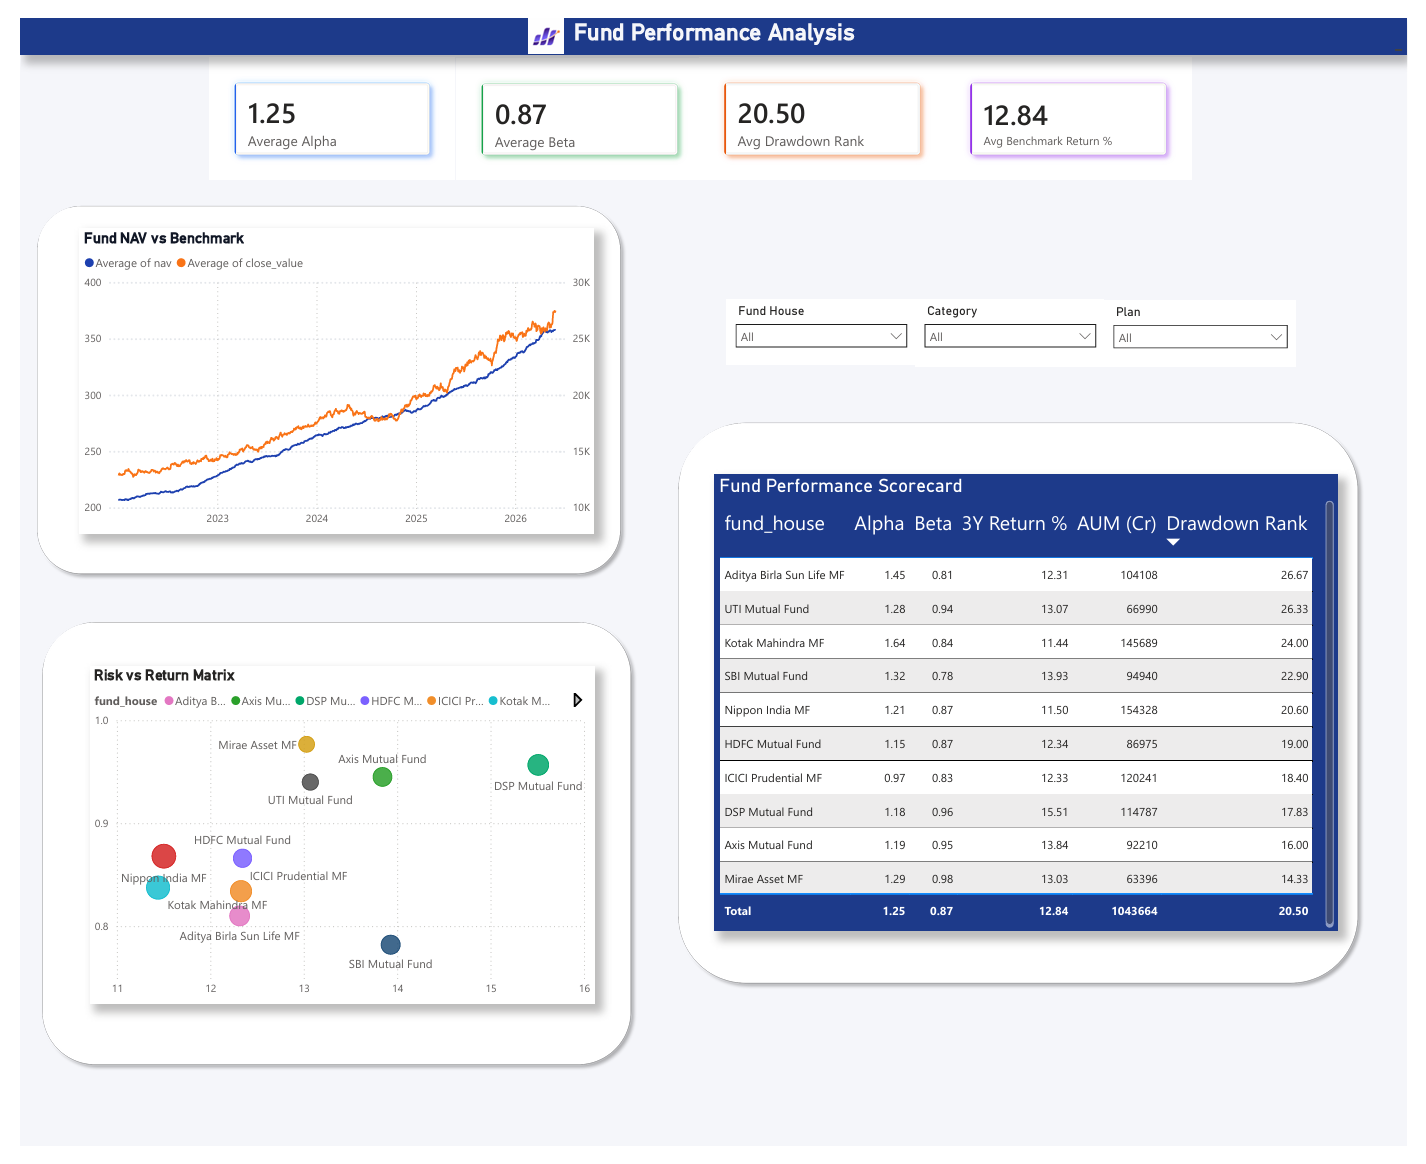

Layout of this report page (visuals, bound fields, positions):
{"tool":"powerbi","page":{"name":"Fund Performance","canvas":[1600,1300],"ordinal":1},"visuals":[{"type":"cardVisual","fields":{"Data":["Avg(fund_scorecard.alpha)"]},"box":[217.5,45.4,283.6,140.4],"z":0},{"type":"cardVisual","fields":{"Data":["Avg(fund_scorecard.beta)"]},"box":[502.9,45.7,284.3,140],"z":1000},{"type":"cardVisual","fields":{"Data":["Avg(fund_scorecard.benchmark_3yr_pct)"]},"box":[1067,45.4,283.6,140.4],"z":2000},{"type":"cardVisual","fields":{"Data":["Avg(fund_scorecard.drawdown_rank)"]},"box":[783.4,45.4,283.6,140.4],"z":3000},{"type":"slicer","fields":{"Values":["fund_scorecard.fund_house"]},"box":[815.1,323.8,218,76.5],"z":4000},{"type":"slicer","fields":{"Values":["fund_scorecard.category"]},"box":[1033.2,323.8,218,78.1],"z":5000},{"type":"slicer","fields":{"Values":["fund_scorecard.plan"]},"box":[1251.2,325.4,221.3,76.5],"z":6000},{"type":"shape","box":[9.8,206.6,691.5,442.6],"z":6500},{"type":"shape","box":[16.3,686.6,696.4,528.8],"z":6750},{"type":"shape","box":[750.1,457.2,802.1,663.8],"z":6875},{"type":"tableEx","title":"Fund Performance Scorecard","fields":{"Values":["fund_scorecard.fund_house","Avg(fund_scorecard.alpha)","Avg(fund_scorecard.beta)","Avg(fund_scorecard.benchmark_3yr_pct)","Sum(fund_scorecard.aum_crore)","Avg(fund_scorecard.drawdown_rank)"]},"box":[800.5,525.5,719.1,527.2],"z":7000},{"type":"lineChart","title":"Fund NAV vs Benchmark","fields":{"Y":["Avg(02_nav_history_cleaned.nav)"],"Category":["02_nav_history_cleaned.date.Variation.Date Hierarchy.Year"],"Y2":["Avg(10_benchmark_indices_cleaned.close_value)"]},"box":[68.3,242.4,593.9,351.4],"z":8000},{"type":"scatterChart","title":"Risk vs Return Matrix","fields":{"X":["Avg(fund_scorecard.benchmark_3yr_pct)"],"Y":["Avg(fund_scorecard.beta)"],"Series":["fund_scorecard.fund_house"],"Size":["Sum(fund_scorecard.aum_crore)"]},"box":[79.7,746.8,582.5,388.9],"z":9000},{"type":"textbox","title":"Fund Performance Analysis","box":[0,0,1600,41.7],"z":10000},{"type":"image","box":[567.1,0,78.6,41.4],"z":10001}]}

Visuals, with their boxes in screenshot pixels (x1, y1, x2, y2), scaled from the page's 1600x1300 canvas onto the 1426x1164 screenshot:
cardVisual - Avg(fund_scorecard.alpha): x1=194 y1=41 x2=447 y2=166
cardVisual - Avg(fund_scorecard.beta): x1=448 y1=41 x2=702 y2=166
cardVisual - Avg(fund_scorecard.benchmark_3yr_pct): x1=951 y1=41 x2=1204 y2=166
cardVisual - Avg(fund_scorecard.drawdown_rank): x1=698 y1=41 x2=951 y2=166
slicer - fund_scorecard.fund_house: x1=726 y1=290 x2=921 y2=358
slicer - fund_scorecard.category: x1=921 y1=290 x2=1115 y2=360
slicer - fund_scorecard.plan: x1=1115 y1=291 x2=1312 y2=360
shape: x1=9 y1=185 x2=625 y2=581
shape: x1=15 y1=615 x2=635 y2=1088
shape: x1=669 y1=409 x2=1383 y2=1004
"Fund Performance Scorecard" tableEx: x1=713 y1=471 x2=1354 y2=943
"Fund NAV vs Benchmark" lineChart: x1=61 y1=217 x2=590 y2=532
"Risk vs Return Matrix" scatterChart: x1=71 y1=669 x2=590 y2=1017
"Fund Performance Analysis" textbox: x1=0 y1=0 x2=1425 y2=37
image: x1=505 y1=0 x2=575 y2=37
